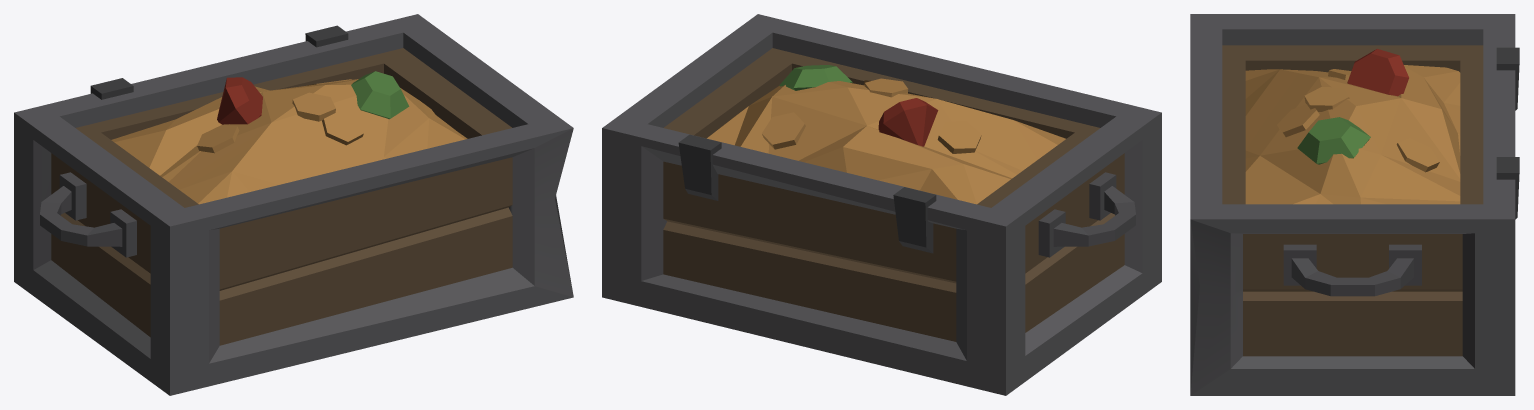
The model's file is SM_Prop_Chest_Treasure_02.glb.
3 renders of one model, left to right at view 1: azimuth 30°, elevation 25°; view 2: azimuth 150°, elevation 25°; view 3: azimuth 270°, elevation 25°, orthographic. The views are drawn at different scales.
Visible parts, largest first — view 1: SM_Prop_Chest_Treasure_02; view 2: SM_Prop_Chest_Treasure_02; view 3: SM_Prop_Chest_Treasure_02.
Part boxes in pixels (bbox=[...]): SM_Prop_Chest_Treasure_02: bbox=[14, 14, 573, 395]; SM_Prop_Chest_Treasure_02: bbox=[602, 14, 1161, 395]; SM_Prop_Chest_Treasure_02: bbox=[1190, 14, 1519, 395].
Size of the model in its own units: 0.0106 by 0.00433 by 0.00593.
